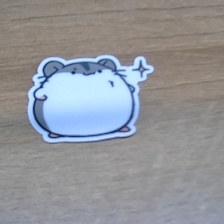mouse: (27, 52, 156, 146)
